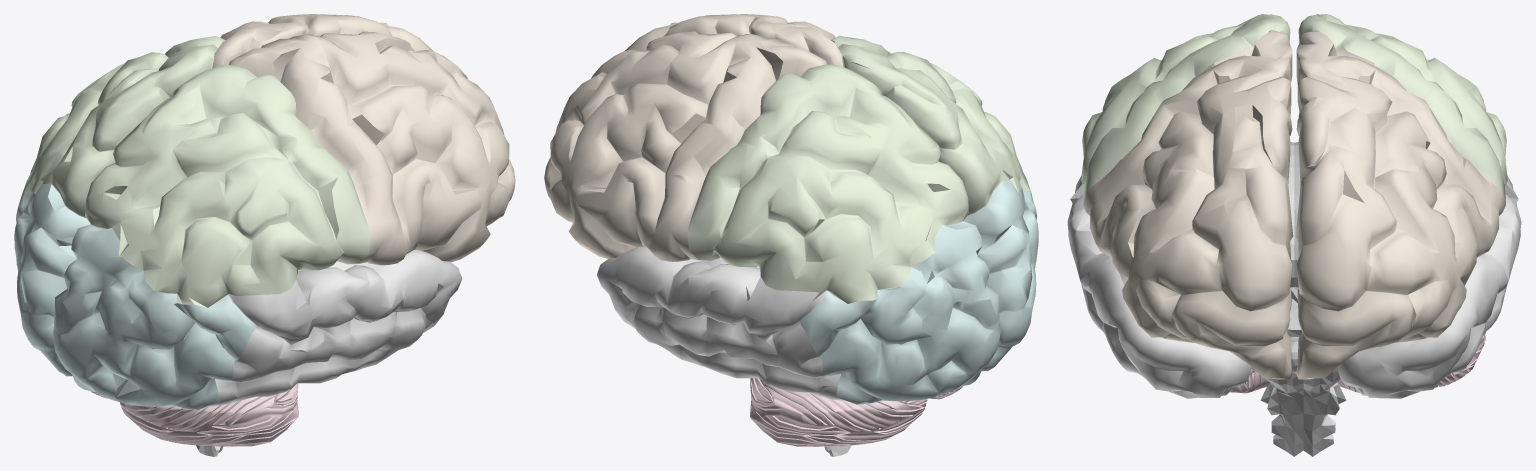
Rendered from Brain_convertedInBlenderToGLTF_withMaterial2.glb.
3 views of the same model, side by side, from view 1: azimuth 30°, elevation 25°; view 2: azimuth 150°, elevation 25°; view 3: azimuth 270°, elevation 25° (orthographic). The views are drawn at different scales.
Parts seen in each view (by area): view 1: pariet, frontal, occipit, temp, cereb; view 2: pariet, frontal, occipit, temp, cereb; view 3: frontal, temp, pariet, stem, corpus, cereb.
Boxes of the visible parts, x1,y1,x2,y2 form: pariet: [22, 36, 370, 307]; frontal: [212, 14, 515, 265]; occipit: [14, 183, 256, 409]; temp: [205, 250, 462, 407]; cereb: [90, 383, 298, 446]; pariet: [687, 35, 1030, 303]; frontal: [544, 14, 843, 261]; occipit: [799, 181, 1038, 404]; temp: [597, 246, 846, 401]; cereb: [750, 378, 963, 446]; frontal: [1083, 30, 1505, 379]; temp: [1067, 176, 1521, 398]; pariet: [1081, 14, 1507, 203]; stem: [1251, 287, 1346, 456]; corpus: [1288, 142, 1300, 287]; cereb: [1230, 332, 1485, 393].
Bounding box in the file's own units: 0.1631 × 0.1427 × 0.1341.
